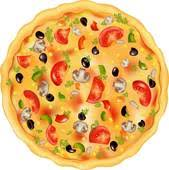pizza: (4, 3, 168, 162)
